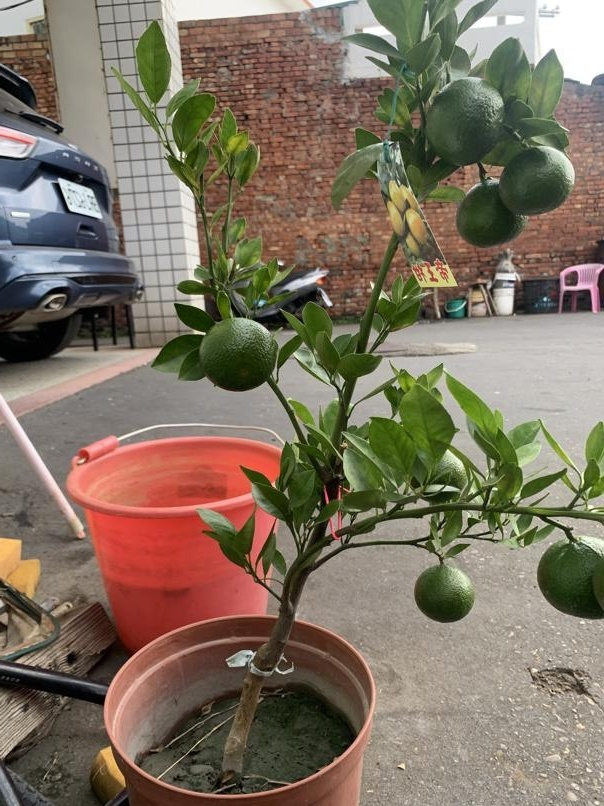Tangerine: (420, 76, 506, 164), (195, 316, 278, 390), (497, 141, 575, 218), (536, 538, 604, 619), (458, 180, 529, 247), (411, 555, 477, 624)
